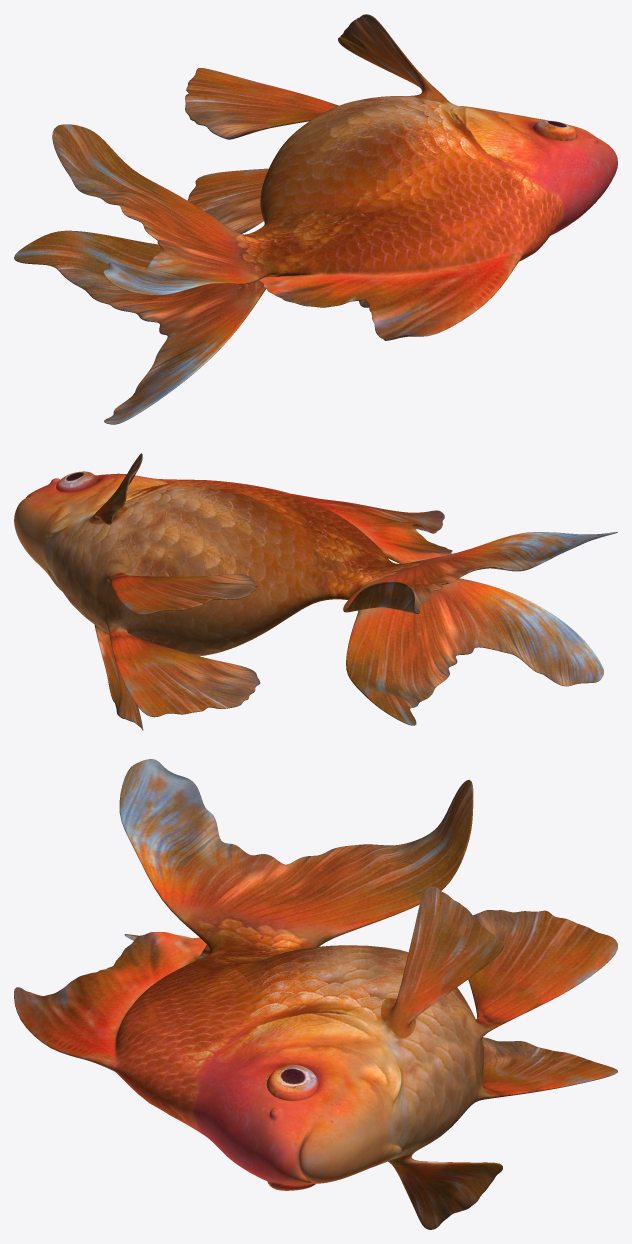
File: 13001_Ryukin_Goldfish_v1_L3.obj
3 renders of one model, top to bottom at view 1: azimuth 30°, elevation 25°; view 2: azimuth 150°, elevation 25°; view 3: azimuth 270°, elevation 25°, orthographic. The views are drawn at different scales.
Visible parts, largest first — view 1: Ryukin_Goldfish; view 2: Ryukin_Goldfish; view 3: Ryukin_Goldfish.
Boxes of the visible parts, left/top/right/bottom form: Ryukin_Goldfish: left=14, top=14, right=617, bottom=424; Ryukin_Goldfish: left=14, top=453, right=617, bottom=730; Ryukin_Goldfish: left=14, top=759, right=617, bottom=1229.
Bounding box in the file's own units: 13.13 × 6.45 × 10.27.
Materials: 1 (1 with a texture image).
